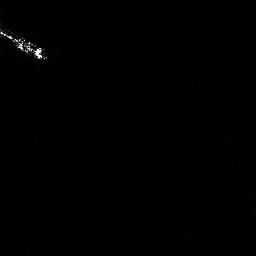ship: (1, 24, 51, 63)
